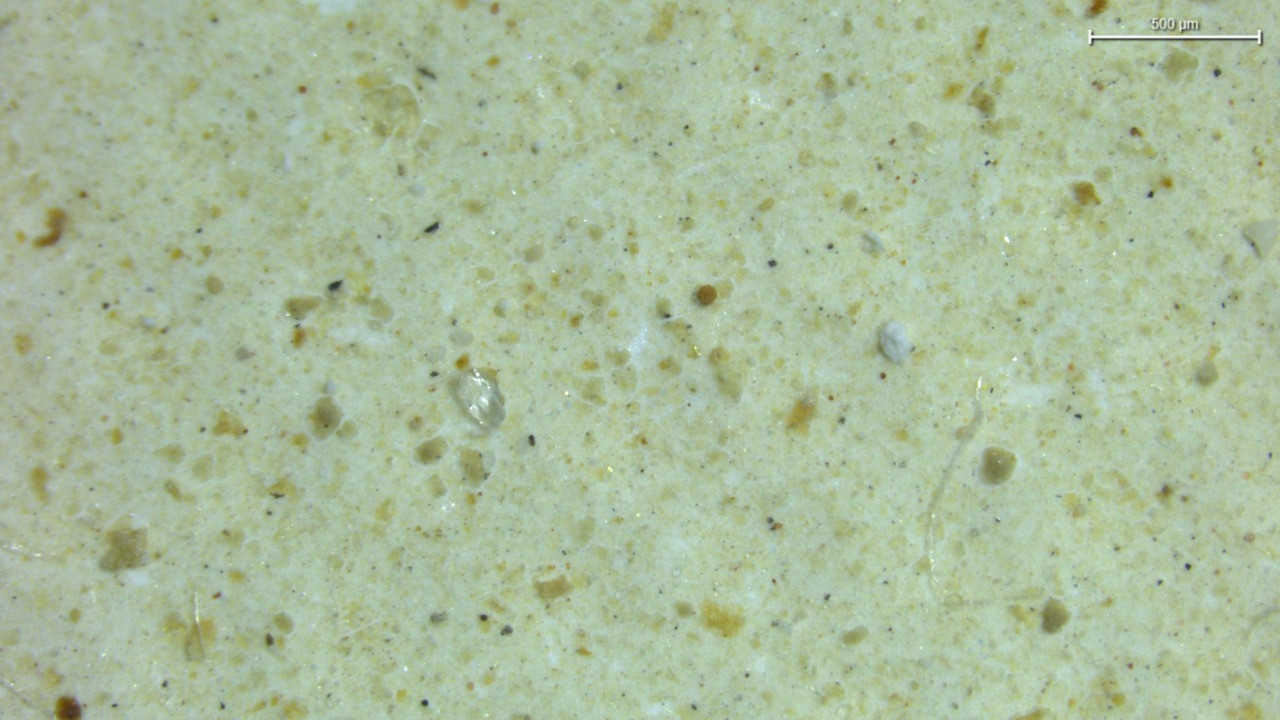microplastic_fragment: (454, 369, 505, 429), (878, 321, 913, 364)
